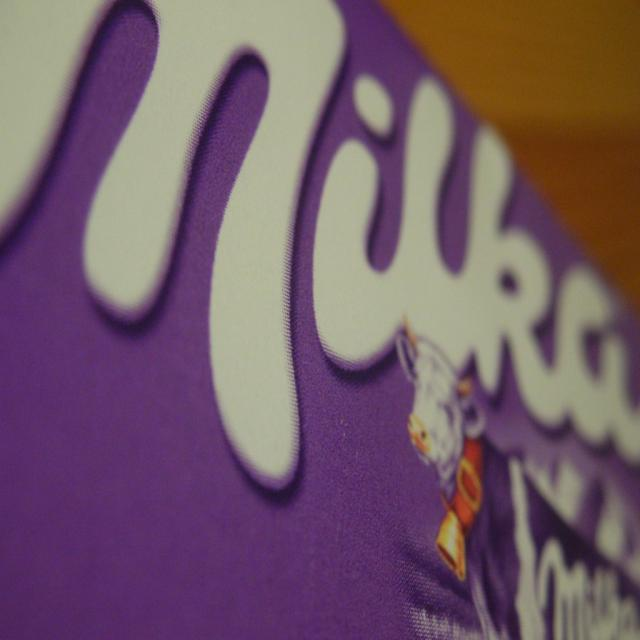milka: (2, 2, 640, 640)
